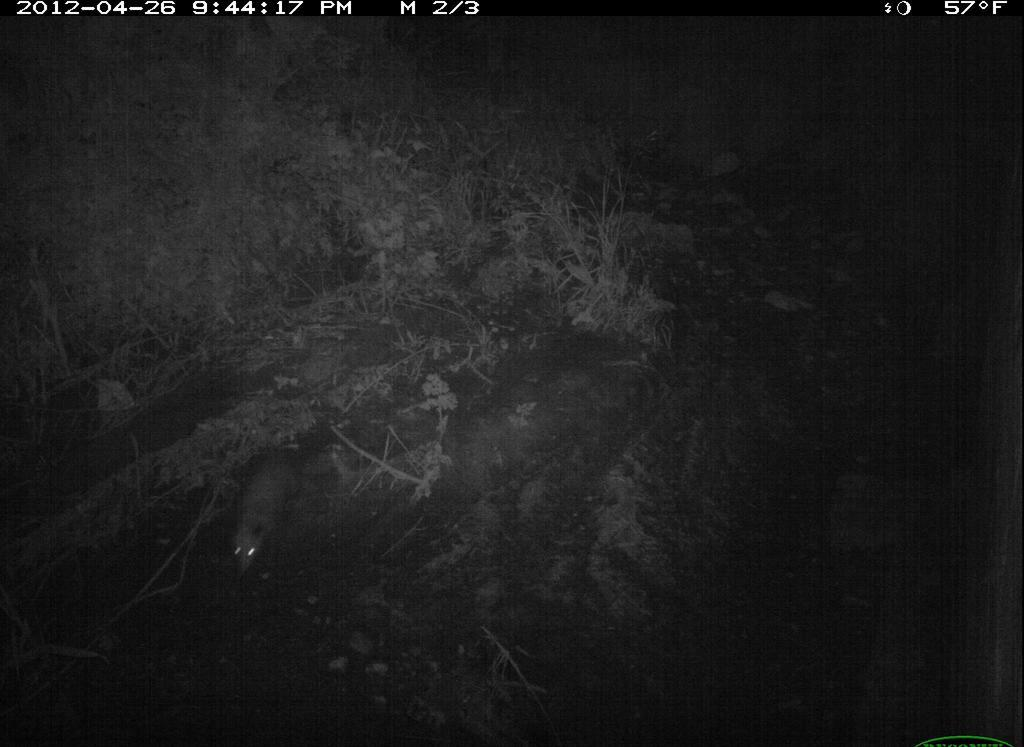opossum: (225, 427, 312, 583)
